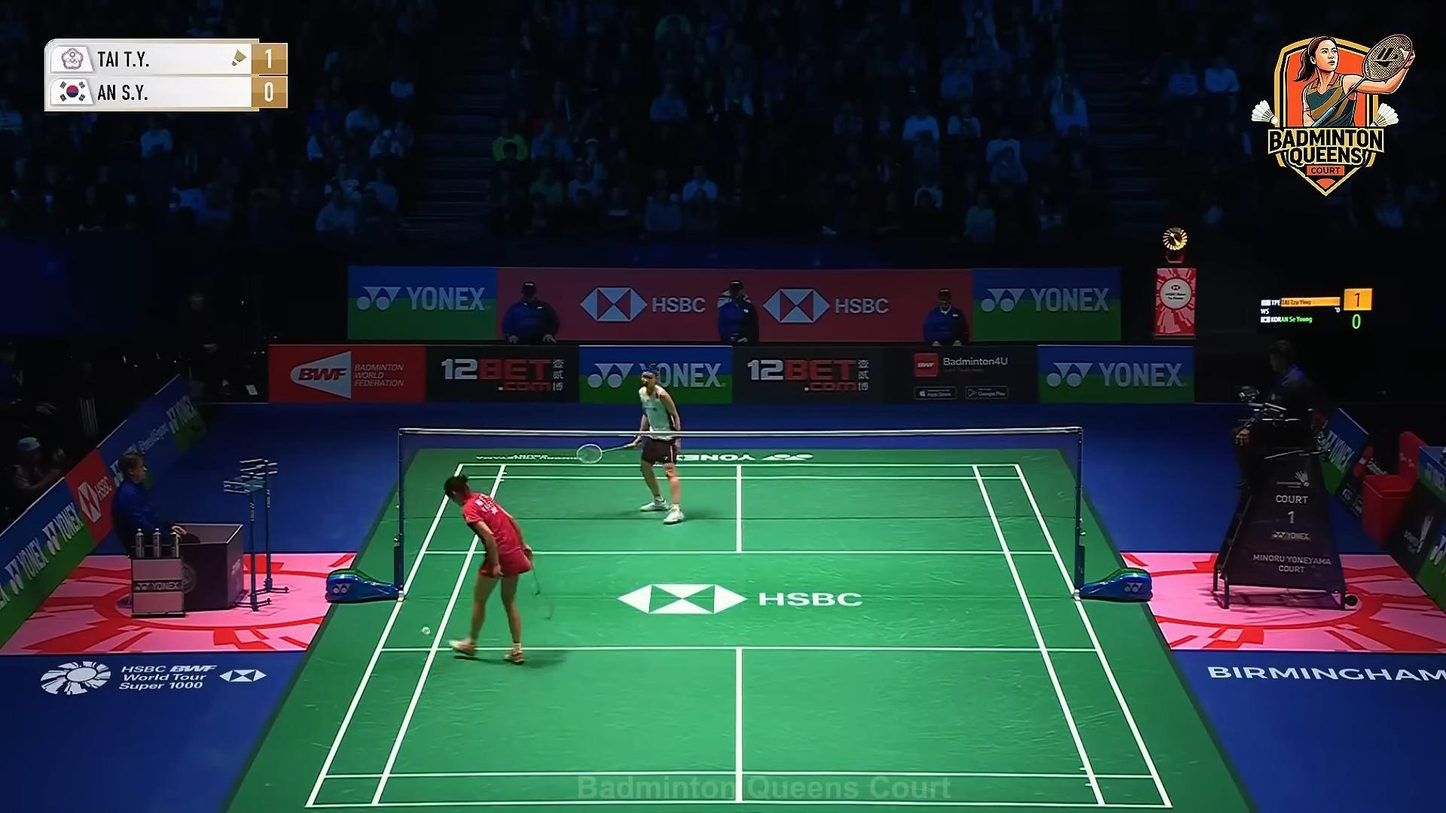player: (443, 473, 534, 664), (584, 364, 685, 525)
